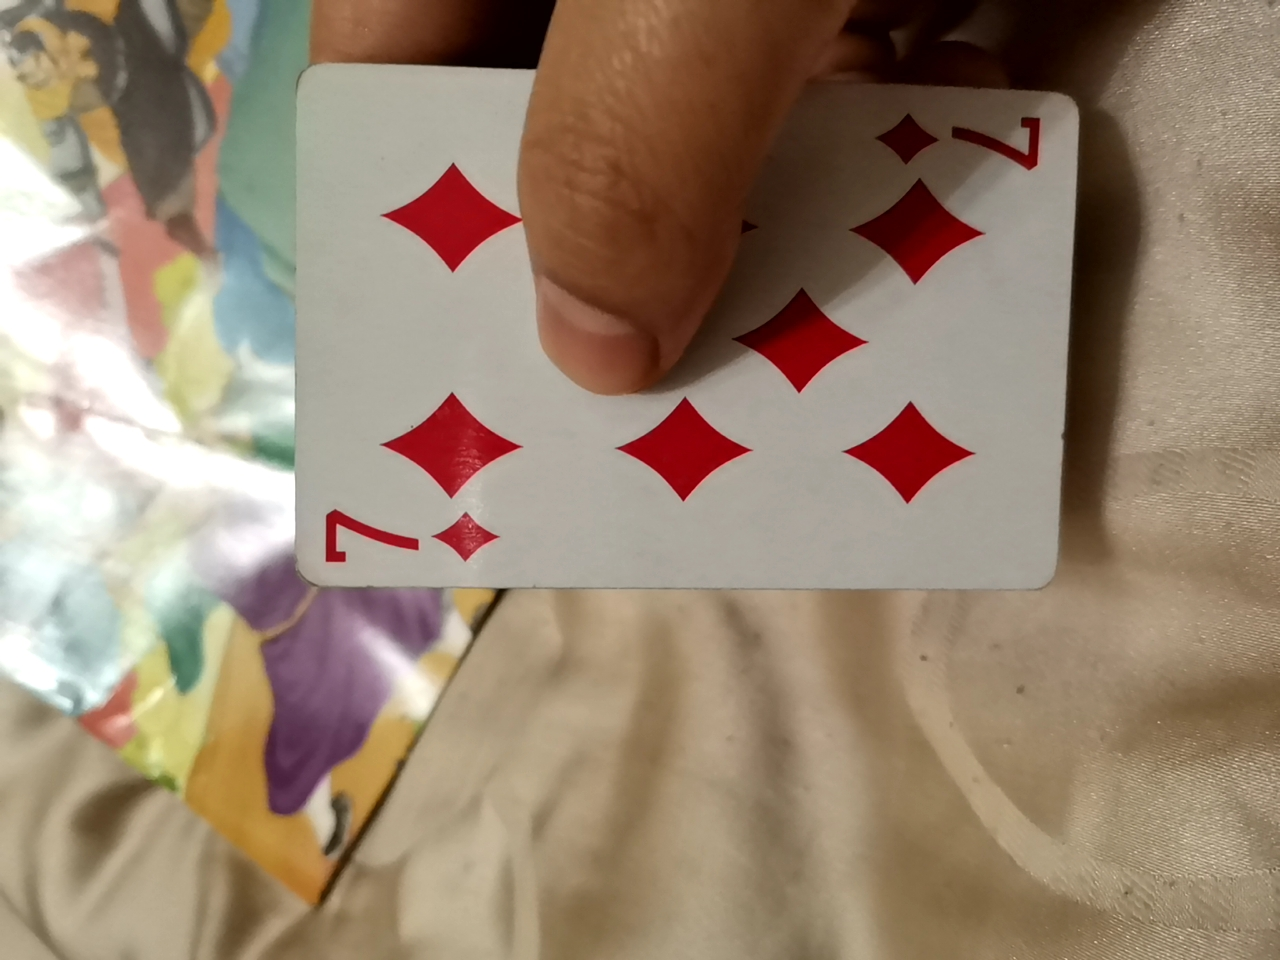fk 7: (242, 67, 1090, 618)
